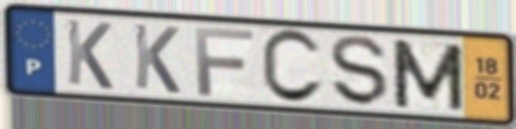C: (258, 27, 327, 107)
F: (192, 25, 257, 99)
K: (63, 16, 116, 92), (131, 20, 183, 96)
M: (388, 36, 468, 114)
S: (327, 33, 392, 110)
